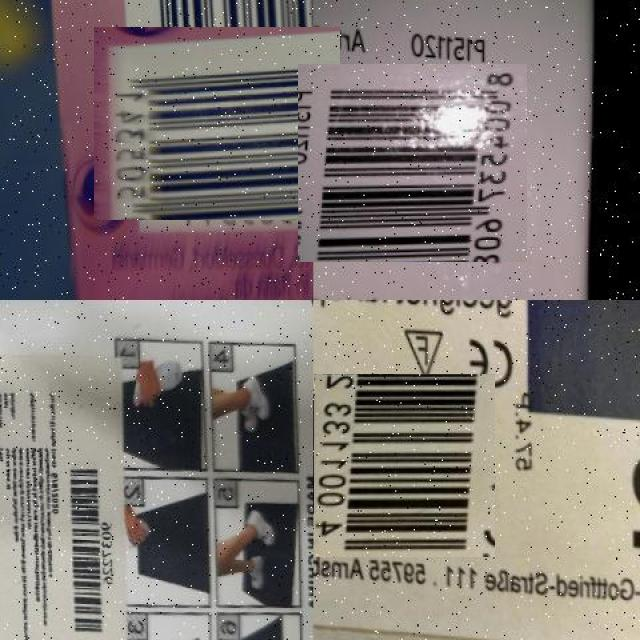Barcode: (106, 14, 327, 233), (306, 55, 519, 270), (313, 375, 496, 557), (61, 450, 115, 640)
